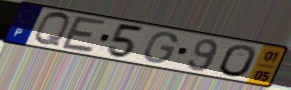5: (104, 22, 150, 60)
9: (185, 38, 220, 73)
E: (59, 15, 109, 55)
G: (142, 31, 179, 65)
O: (217, 43, 258, 79)
Q: (32, 11, 72, 49)
